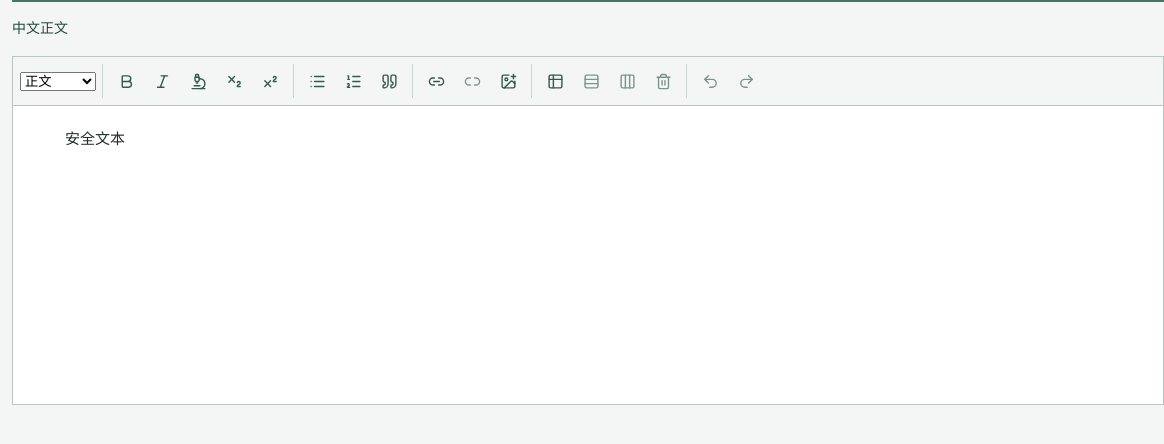
rejects unsafe links before they enter the document
The image size is (1164, 444).
Click the button named "设置链接" at (436, 81), box [419, 64, 453, 98]
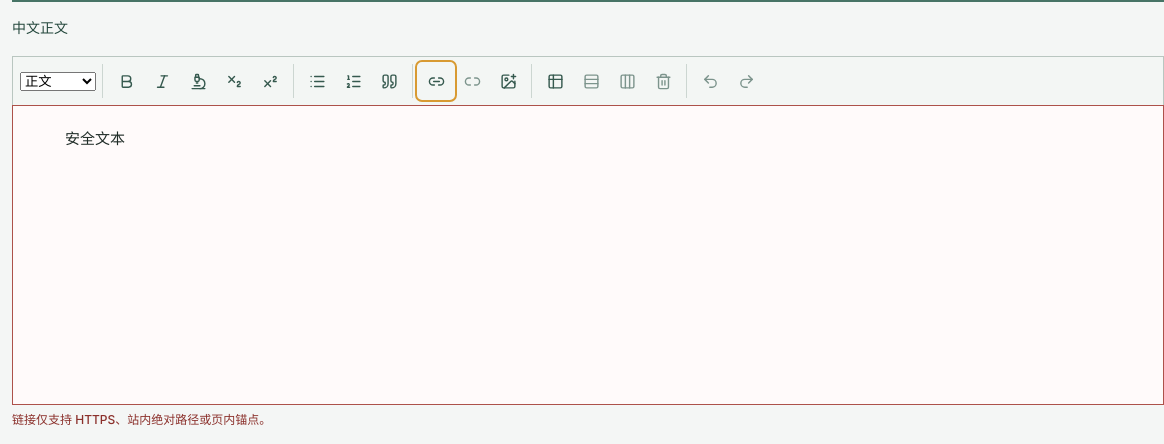
expect the text "链接仅支持 HTTPS、站内绝对路径或页内锚点。" is shown: met, box [12, 412, 271, 427]
